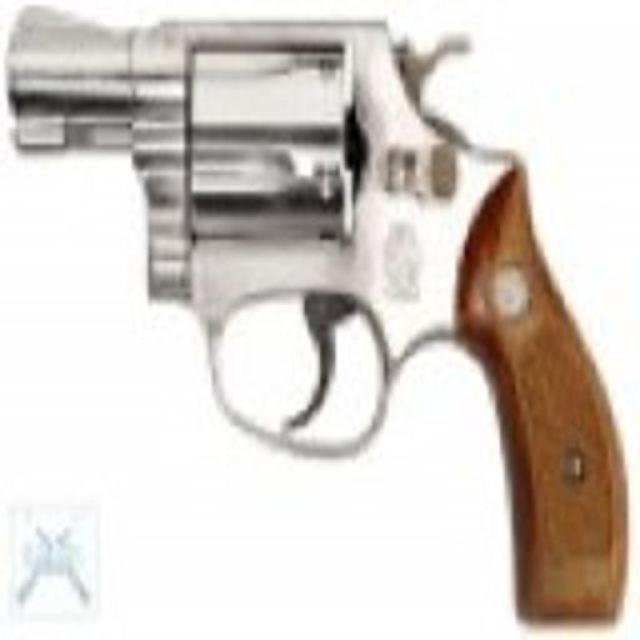pistol: (8, 5, 624, 624)
